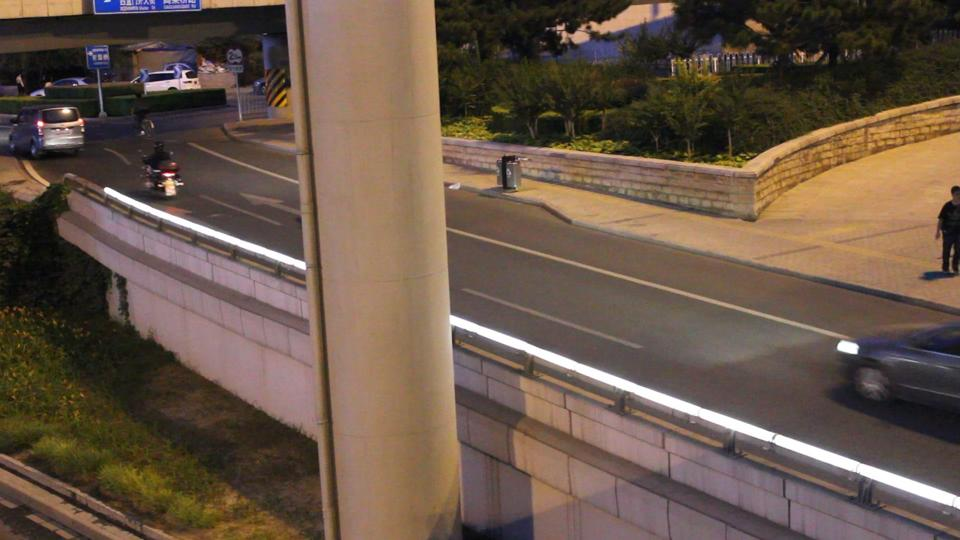bicycle: (147, 162, 186, 198)
car: (834, 320, 960, 414), (6, 105, 87, 159), (129, 64, 199, 97)
person: (936, 185, 960, 276), (143, 141, 175, 176)
sign: (93, 0, 201, 17), (83, 44, 112, 69)
